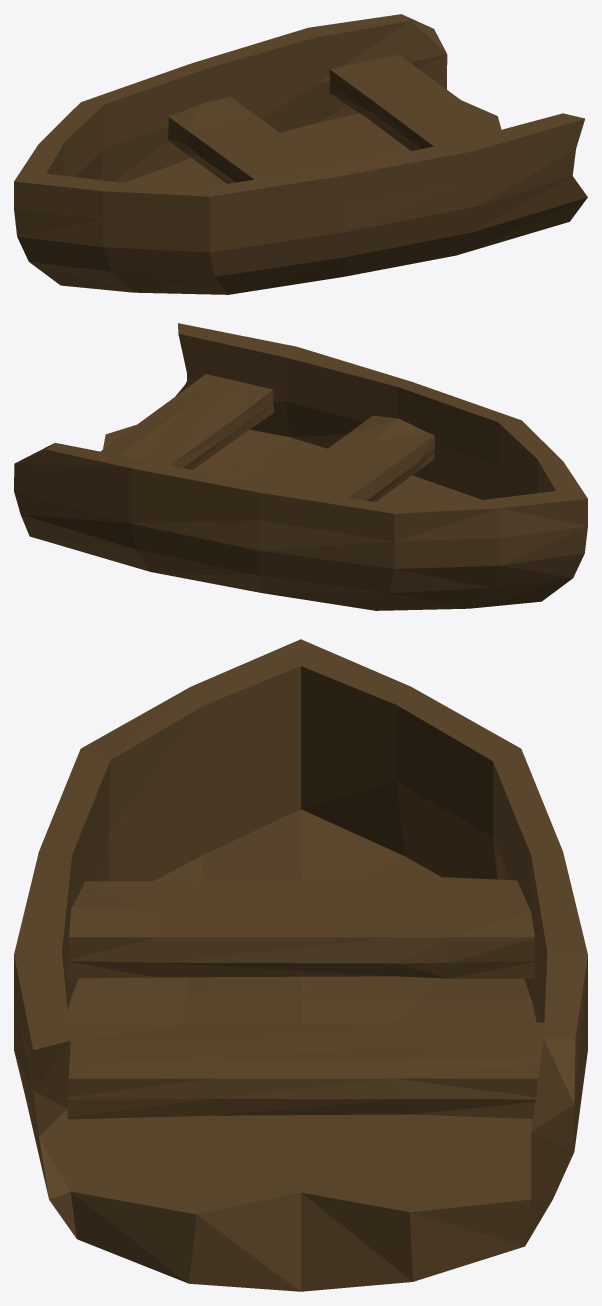
The model's file is Boot kaputt 2.fbx.
3 renders of one model, top to bottom at view 1: azimuth 30°, elevation 25°; view 2: azimuth 150°, elevation 25°; view 3: azimuth 270°, elevation 25°, orthographic. The views are drawn at different scales.
Visible parts, largest first — view 1: Boot, Sitz_II, Sitz_I; view 2: Boot, Sitz_II, Sitz_I; view 3: Boot, Sitz_I, Sitz_II.
Part boxes in pixels (x1,y1,x2,y2): Boot: [14, 14, 587, 294]; Sitz_II: [329, 54, 501, 150]; Sitz_I: [168, 97, 327, 183]; Boot: [14, 323, 587, 610]; Sitz_II: [100, 374, 274, 469]; Sitz_I: [276, 415, 434, 501]; Boot: [14, 639, 587, 1291]; Sitz_I: [66, 877, 534, 978]; Sitz_II: [67, 1022, 544, 1119].
Size of the model in its own units: 674 by 171 by 378.
